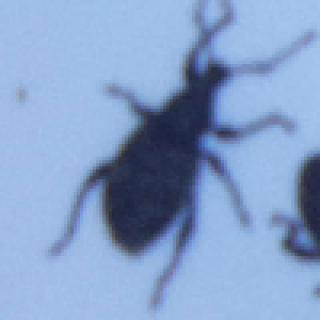bvw: (46, 1, 317, 312)
